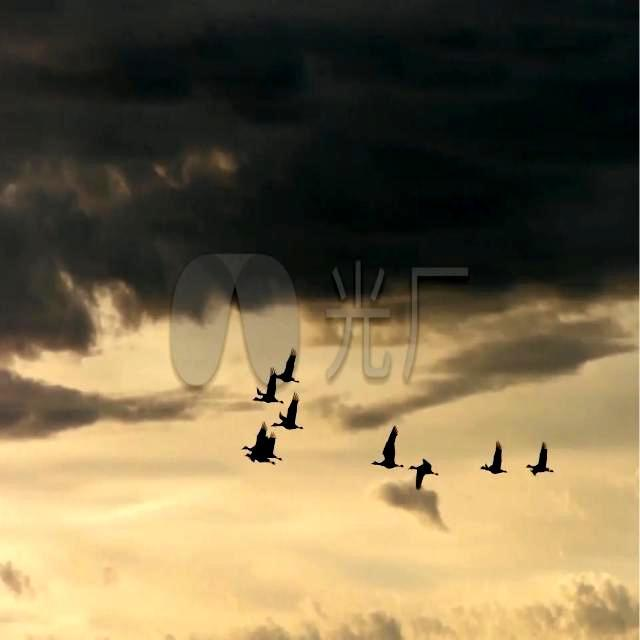bird: (233, 422, 282, 466), (372, 424, 406, 476), (521, 438, 558, 478), (476, 442, 511, 480), (276, 344, 306, 386), (410, 452, 442, 490), (252, 368, 280, 407), (274, 396, 304, 432), (243, 452, 282, 468)
